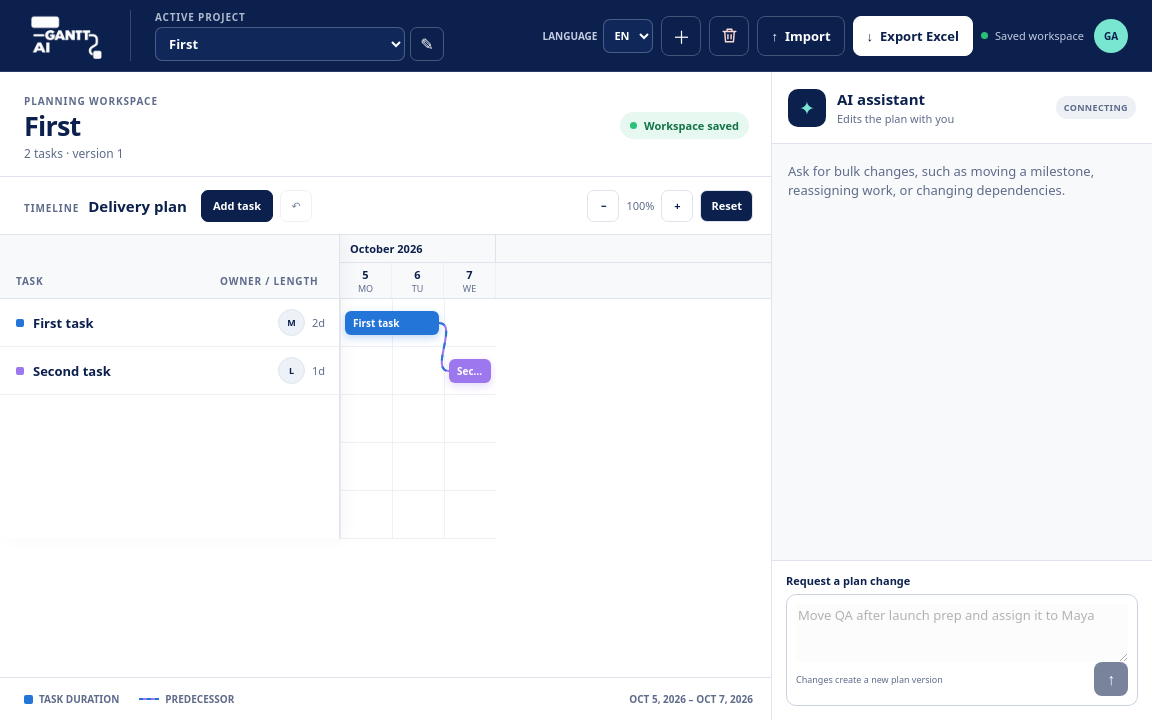
plan view › keeps one workspace token while creating and restoring multiple projects
Click the button named "New project" at (681, 36), box [661,16,701,56]
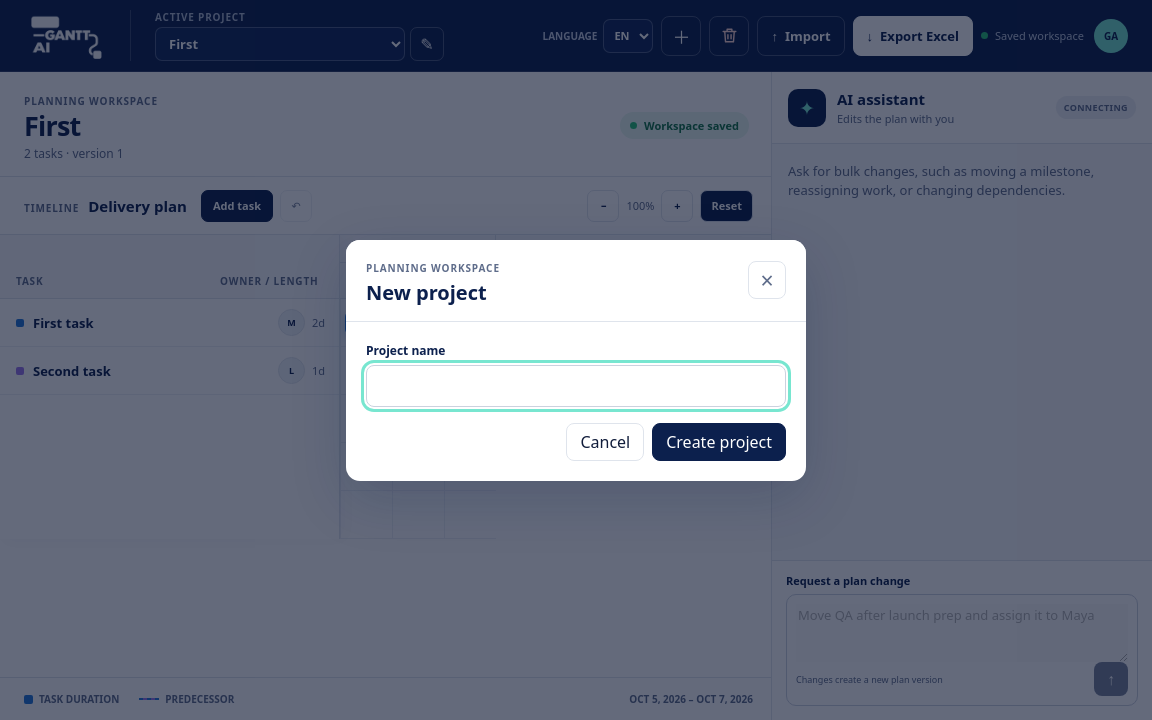
Type "Second" into the field labelled "Project name" at (576, 386), box [366,364,786,406]
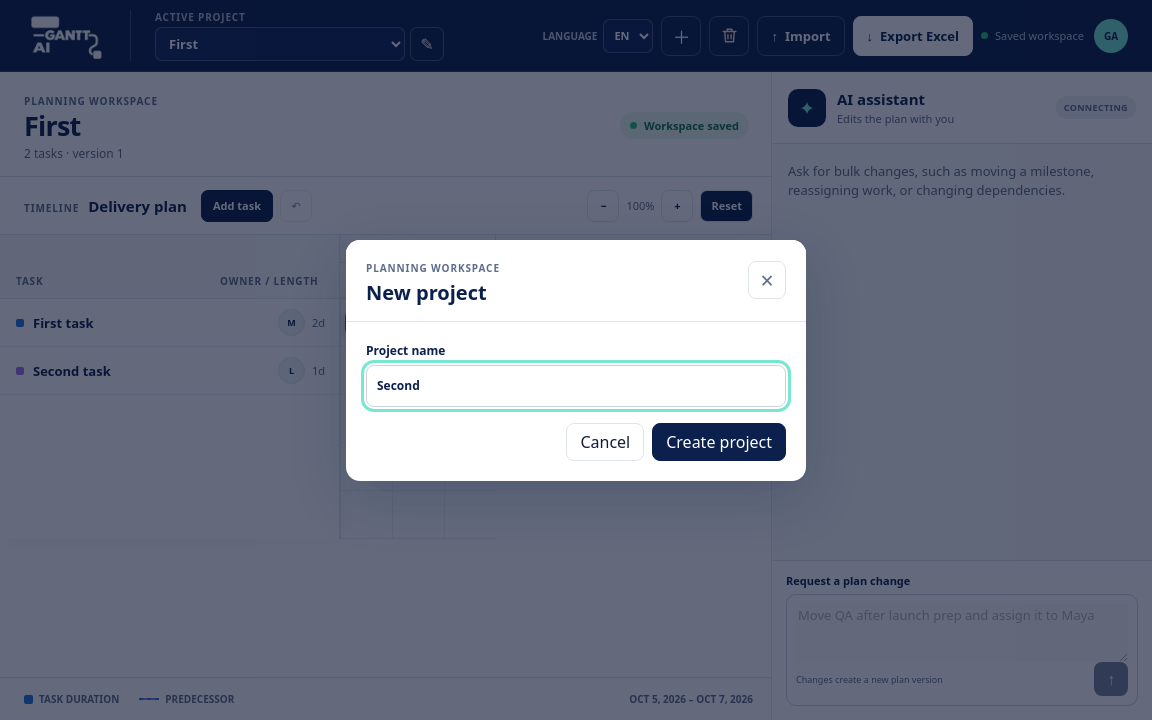
Click the button "Create project" at (719, 442), box [652,422,786,460]
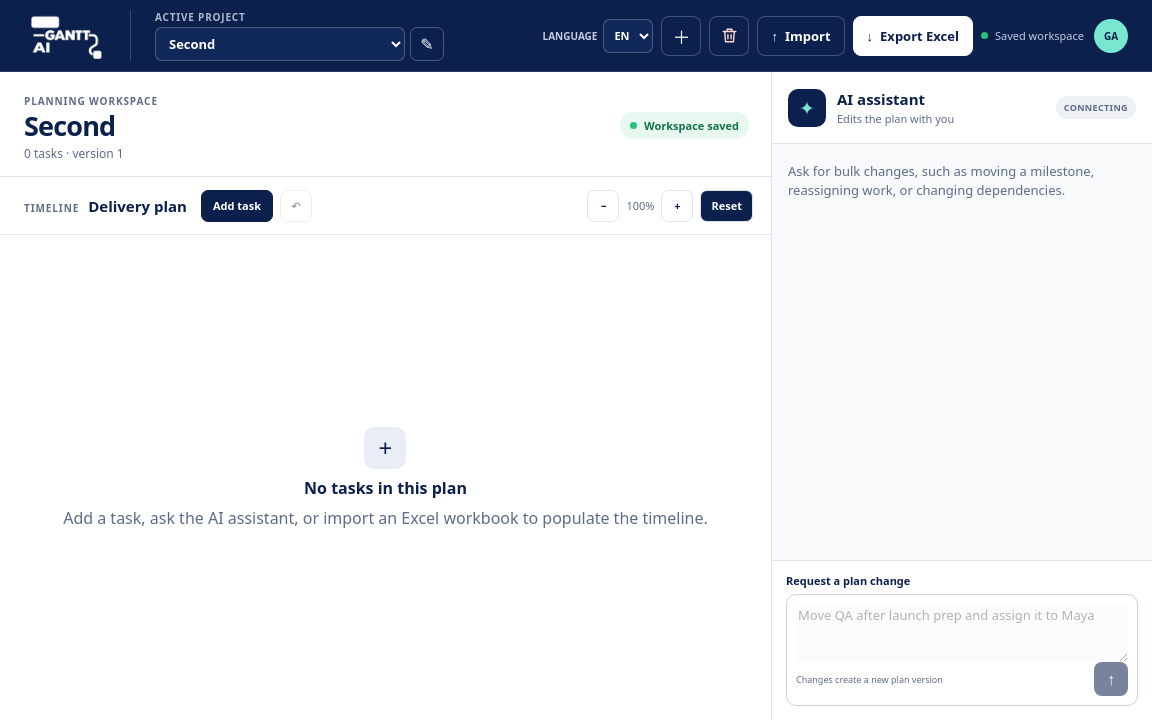
Expected: the heading "Second" is shown, [24,107,115,144]
Expected: the text "No tasks in this plan" is shown, [304,477,467,499]
Select "First" in the dropdown labelled "Active project" at (280, 44), box [155,27,405,61]
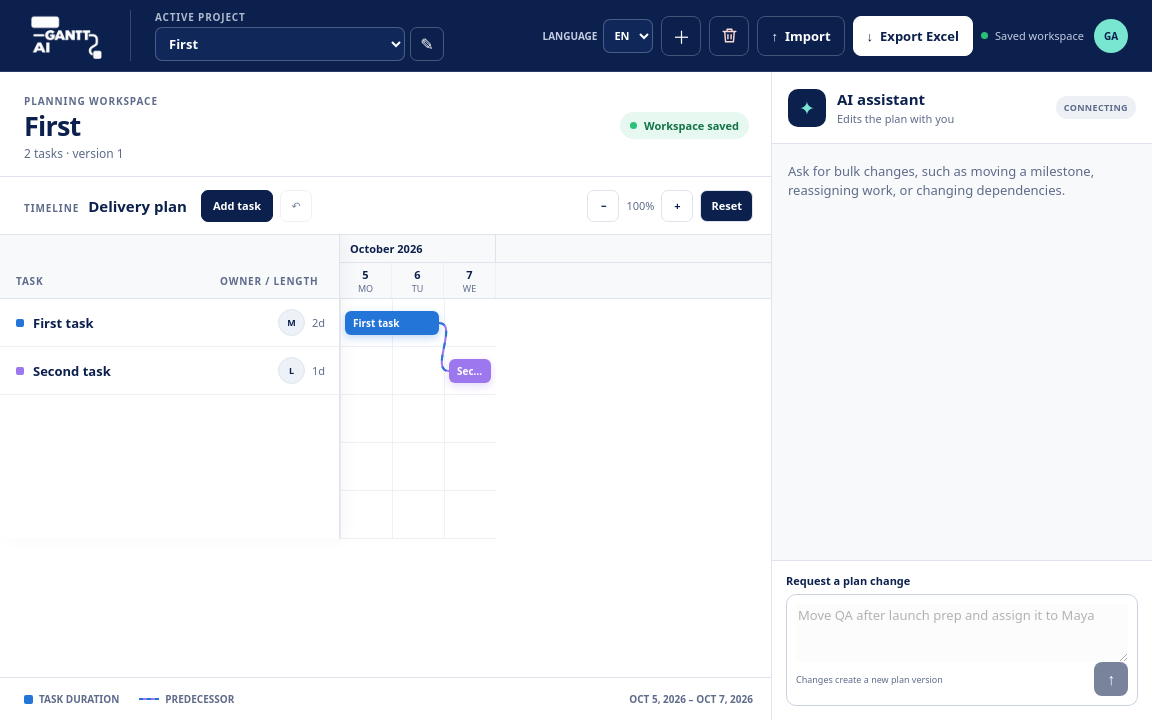
Expected: the text "First task" below "Owner / length" is shown, [33,314,94,332]
